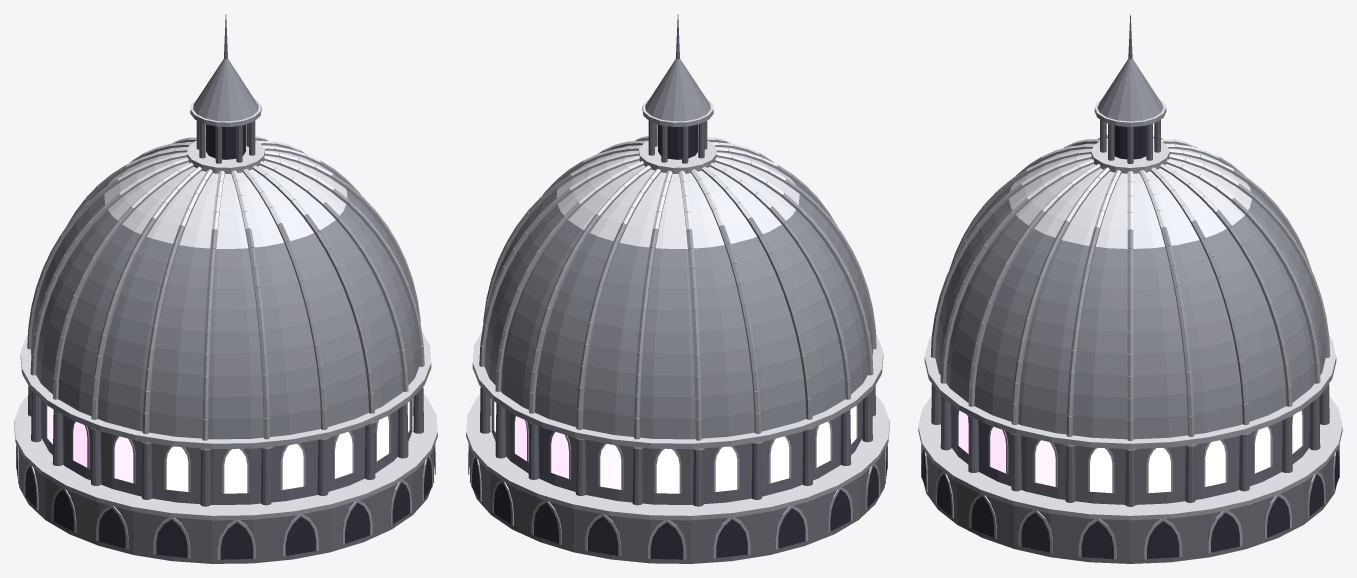
Rendered from AR_Basilica_Cupula.fbx.
3 renders of one model, left to right at view 1: azimuth 30°, elevation 25°; view 2: azimuth 150°, elevation 25°; view 3: azimuth 270°, elevation 25°, orthographic.
Visible parts, largest first — view 1: AR_Basilica_Cupula; view 2: AR_Basilica_Cupula; view 3: AR_Basilica_Cupula.
Boxes of the visible parts, left/top/right/bottom form: AR_Basilica_Cupula: left=14, top=14, right=437, bottom=563; AR_Basilica_Cupula: left=466, top=14, right=889, bottom=563; AR_Basilica_Cupula: left=918, top=14, right=1342, bottom=563.
Bounding box in the file's own units: 78.2 × 93.87 × 78.2.
